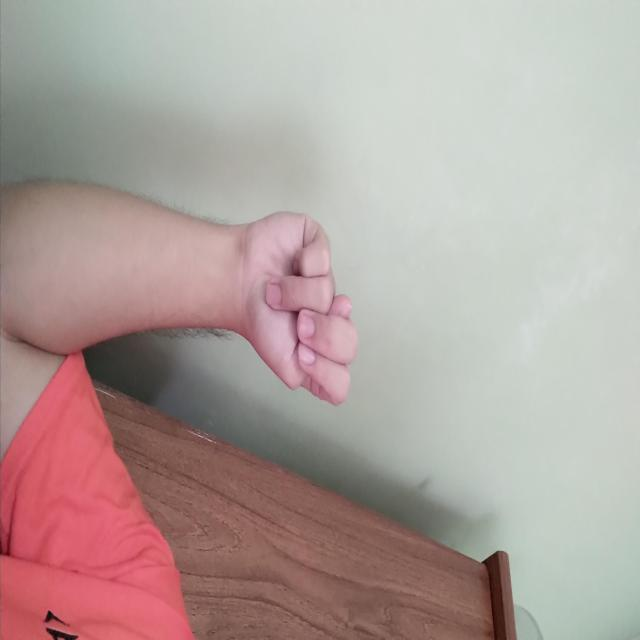N: (208, 281, 408, 399)
